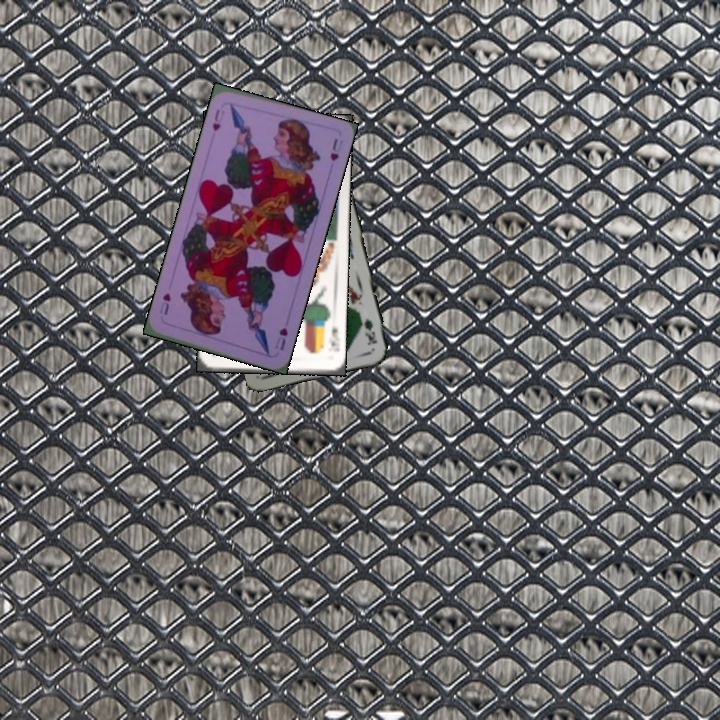EK: (327, 322, 341, 355)
GK: (360, 314, 379, 348)
HU: (271, 323, 290, 353), (208, 105, 227, 134)
